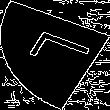L_SE: (16, 30, 94, 80)
